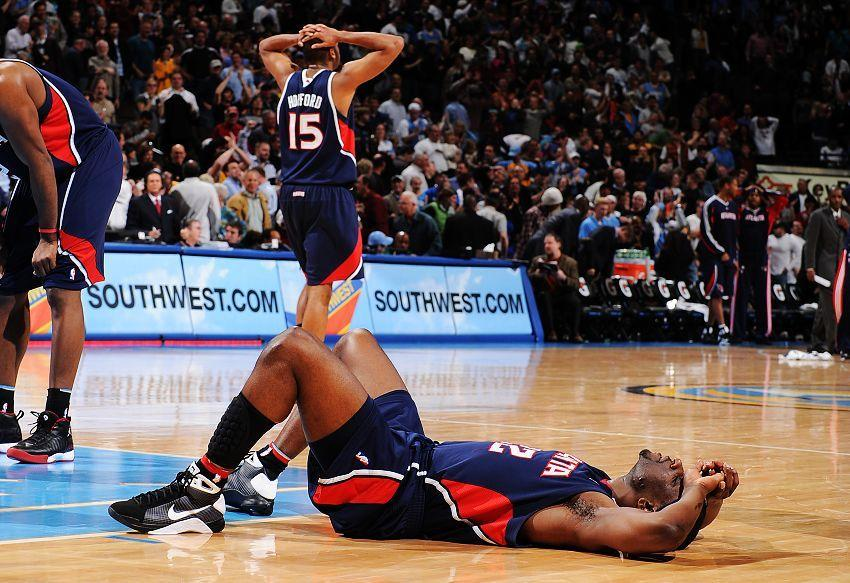bending: (1, 50, 130, 469)
down: (102, 317, 777, 566)
up: (252, 9, 404, 359)
